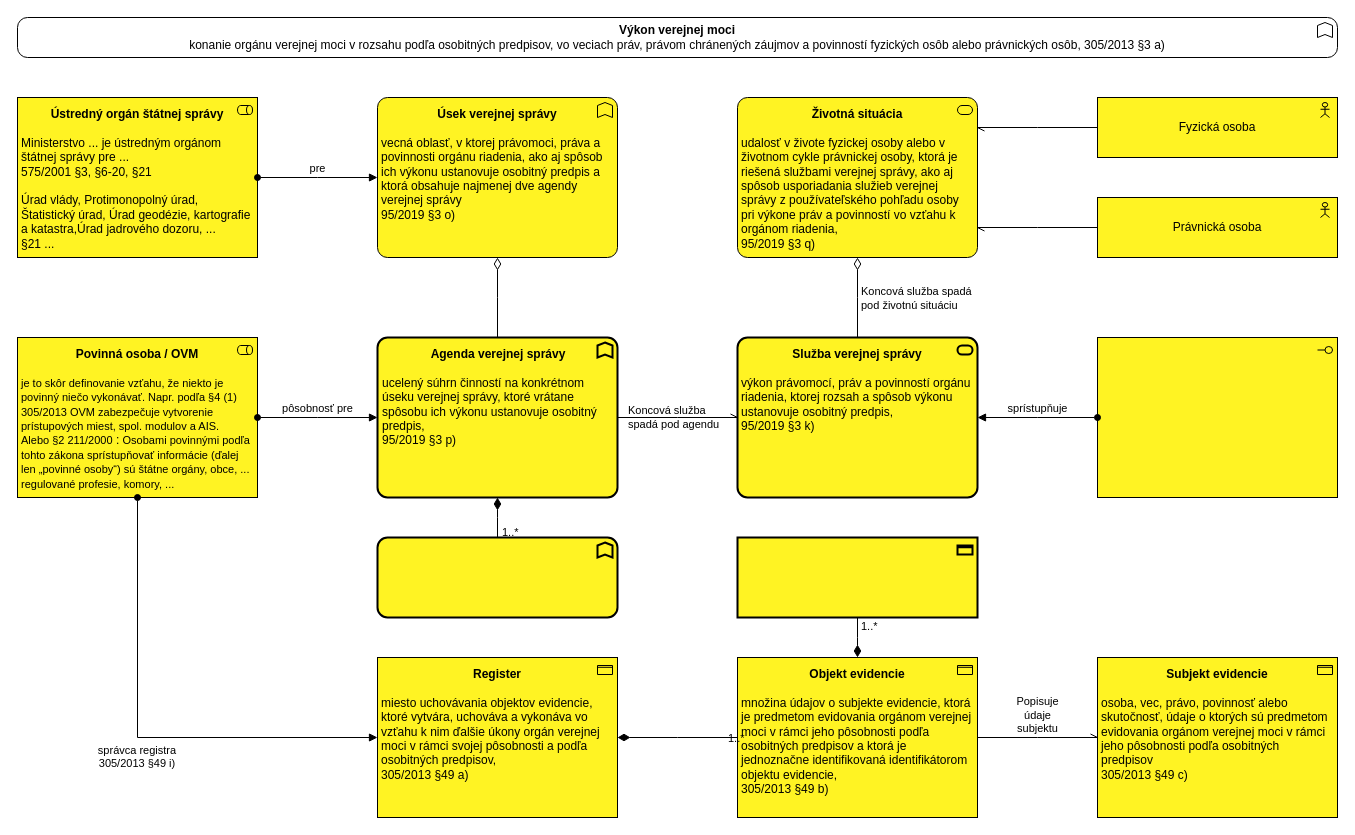
Some shapes in this 1355 by 835 pixel diagram are drawn without their labels. Each missing label, with the centre of its shape:
"Kanál" goes at (x=1217, y=417).
"Údaj" goes at (x=857, y=577).
"Činnosť agendy verejnej správy" goes at (x=497, y=577).
